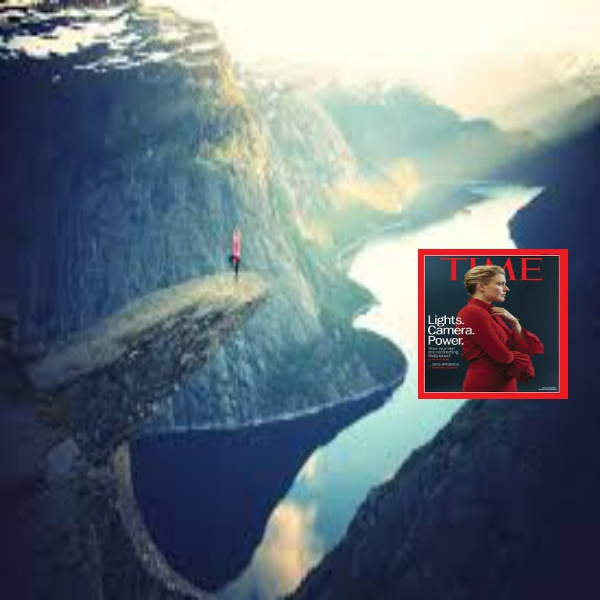time_cover: (418, 242, 568, 407)
